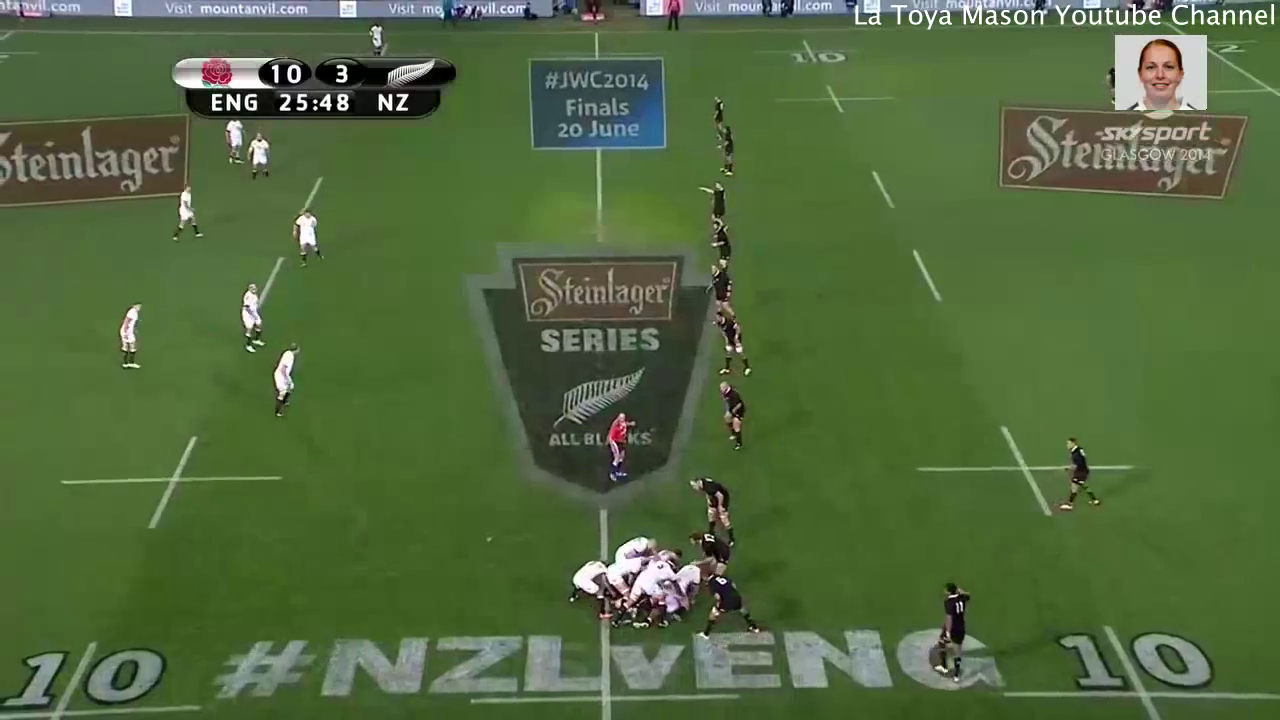10_metre: (1000, 620, 1280, 720), (909, 421, 1141, 522), (53, 433, 284, 533), (1, 638, 206, 720), (771, 82, 901, 115), (751, 38, 863, 65)
player: (921, 574, 976, 683), (1057, 430, 1110, 517), (610, 556, 674, 628), (698, 571, 760, 638), (686, 474, 737, 546), (267, 337, 306, 419), (712, 310, 755, 378), (714, 378, 750, 455), (235, 281, 270, 356), (287, 206, 328, 270), (566, 559, 608, 619), (113, 300, 147, 371), (607, 409, 639, 484), (168, 182, 206, 242), (687, 529, 733, 573), (703, 261, 737, 313), (244, 131, 271, 180), (697, 181, 730, 219), (715, 124, 738, 178), (223, 120, 249, 166), (608, 555, 640, 588), (616, 532, 658, 557), (708, 220, 734, 260), (367, 19, 388, 56), (711, 94, 726, 140)
ruck: (565, 528, 734, 628)
